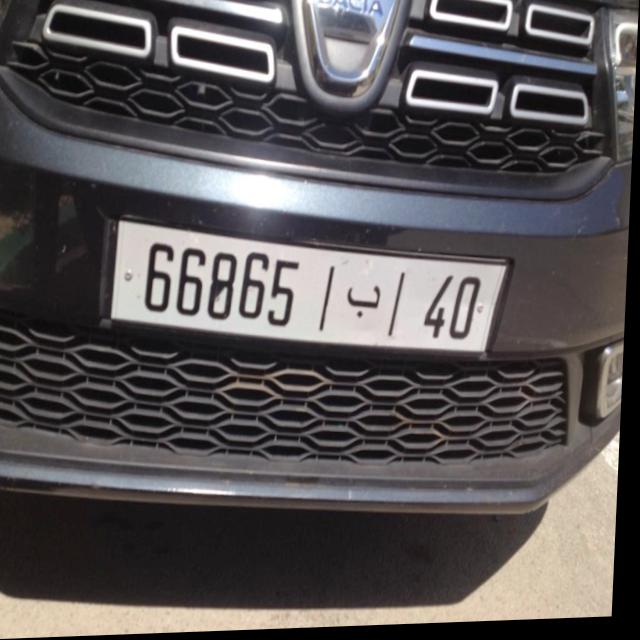License-Plate: (114, 221, 509, 356)
